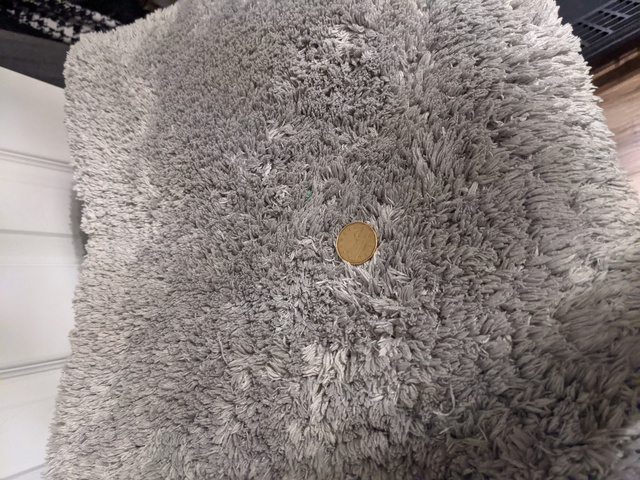loonie: (324, 212, 384, 266)
